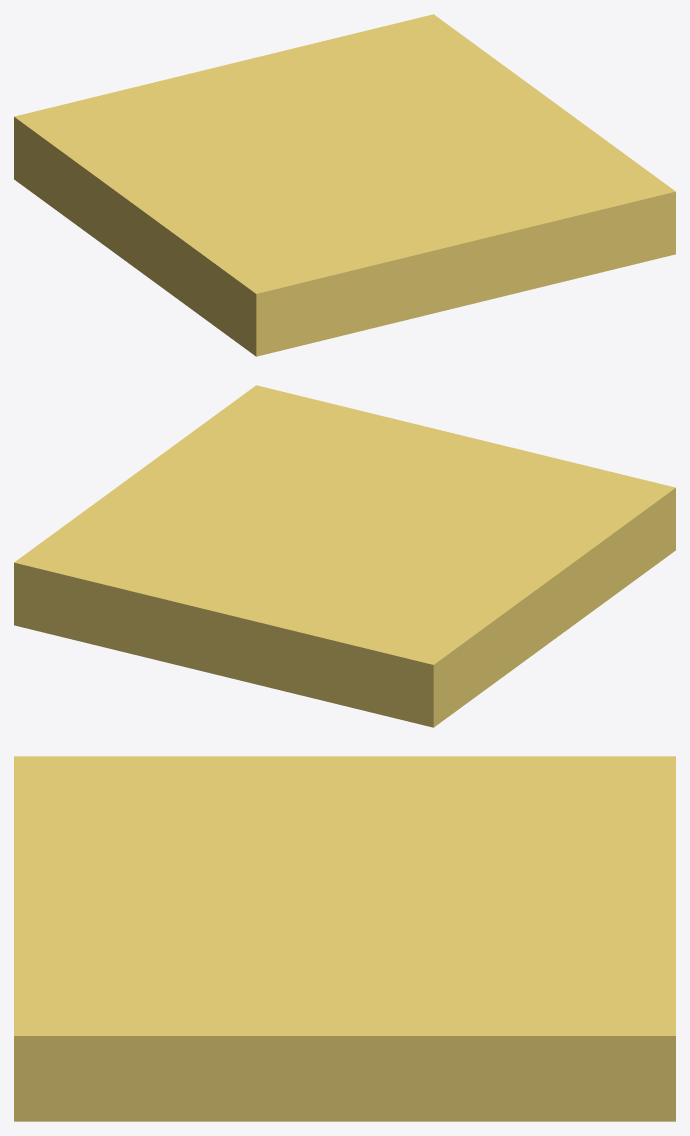
Rendered from egipcio_manga_inf.glb.
The picture shows the model from 3 angles, top to bottom: view 1: azimuth 30°, elevation 25°; view 2: azimuth 150°, elevation 25°; view 3: azimuth 270°, elevation 25°; orthographic projection. The views are drawn at different scales.
Visible parts, largest first — view 1: egipcio_manga_inf; view 2: egipcio_manga_inf; view 3: egipcio_manga_inf.
Boxes of the visible parts, x1,y1,x2,y2 form: egipcio_manga_inf: (14,14,675,356); egipcio_manga_inf: (14,385,675,727); egipcio_manga_inf: (14,756,675,1121).
Bounding box in the file's own units: 0.28 × 0.04 × 0.28.
